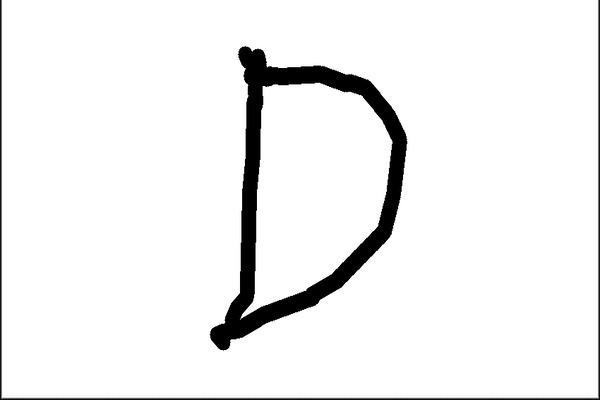D: (205, 38, 414, 354)
